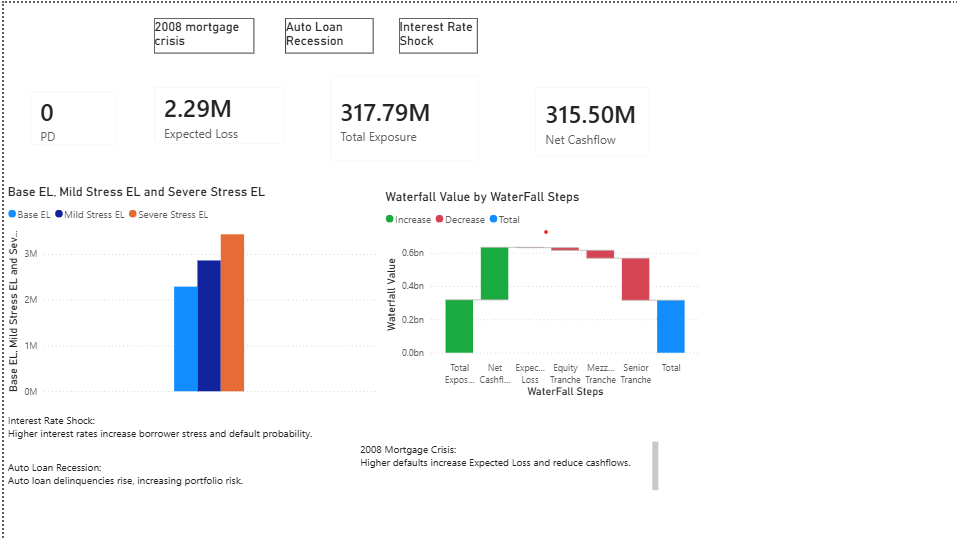

This screenshot's page, from the dashboard's own definition file:
{"tool":"powerbi","page":{"name":"Securisation Risk Arena","canvas":[1280,720],"ordinal":7},"visuals":[{"type":"actionButton","title":"2008 mortgage crisis","box":[200,20,133.6,47.3],"z":0},{"type":"actionButton","title":"Auto Loan Recession","box":[374.5,20,117.3,47.3],"z":1000},{"type":"actionButton","title":"Interest Rate Shock","box":[526.4,20,104.5,47.3],"z":2000},{"type":"cardVisual","fields":{"Data":["auto_loan_securitisation_data.PD"]},"box":[18.2,100.9,150,105.5],"z":3000},{"type":"cardVisual","fields":{"Data":["auto_loan_securitisation_data.Expected Loss"]},"box":[183.6,95.5,207.3,110.9],"z":4000},{"type":"cardVisual","fields":{"Data":["auto_loan_securitisation_data.Total Exposure"]},"box":[418.2,80,232.7,148.2],"z":5000},{"type":"cardVisual","fields":{"Data":["auto_loan_securitisation_data.Net Cashflow"]},"box":[690.9,95.5,186.4,126.4],"z":6000},{"type":"clusteredColumnChart","fields":{"Y":["auto_loan_securitisation_data.Base EL","auto_loan_securitisation_data.Mild Stress EL","auto_loan_securitisation_data.Severe Stress EL"]},"box":[0,240.9,502.7,290],"z":7000},{"type":"waterfallChart","fields":{"Y":["auto_loan_securitisation_data.Waterfall Value"],"Category":["Table.WaterFall Steps"]},"box":[502.7,248.2,429.1,282.7],"z":8000},{"type":"textbox","box":[0,605.5,433.6,57.3],"z":9000},{"type":"textbox","box":[470,580,407.3,92.7],"z":10000},{"type":"textbox","box":[0,540.9,457.3,64.5],"z":11000}]}

Visuals, with their boxes in screenshot pixels (x1, y1, x2, y2), scaled from the page's 1280x720 canvas onto the 957x540 screenshot:
"2008 mortgage crisis" actionButton: left=150, top=15, right=249, bottom=50
"Auto Loan Recession" actionButton: left=280, top=15, right=368, bottom=50
"Interest Rate Shock" actionButton: left=394, top=15, right=472, bottom=50
cardVisual - auto_loan_securitisation_data.PD: left=14, top=76, right=126, bottom=155
cardVisual - auto_loan_securitisation_data.Expected Loss: left=137, top=72, right=292, bottom=155
cardVisual - auto_loan_securitisation_data.Total Exposure: left=313, top=60, right=487, bottom=171
cardVisual - auto_loan_securitisation_data.Net Cashflow: left=517, top=72, right=656, bottom=166
clusteredColumnChart - auto_loan_securitisation_data.Base EL x auto_loan_securitisation_data.Mild Stress EL: left=0, top=181, right=376, bottom=398
waterfallChart - auto_loan_securitisation_data.Waterfall Value x Table.WaterFall Steps: left=376, top=186, right=697, bottom=398
textbox: left=0, top=454, right=324, bottom=497
textbox: left=351, top=435, right=656, bottom=505
textbox: left=0, top=406, right=342, bottom=454
